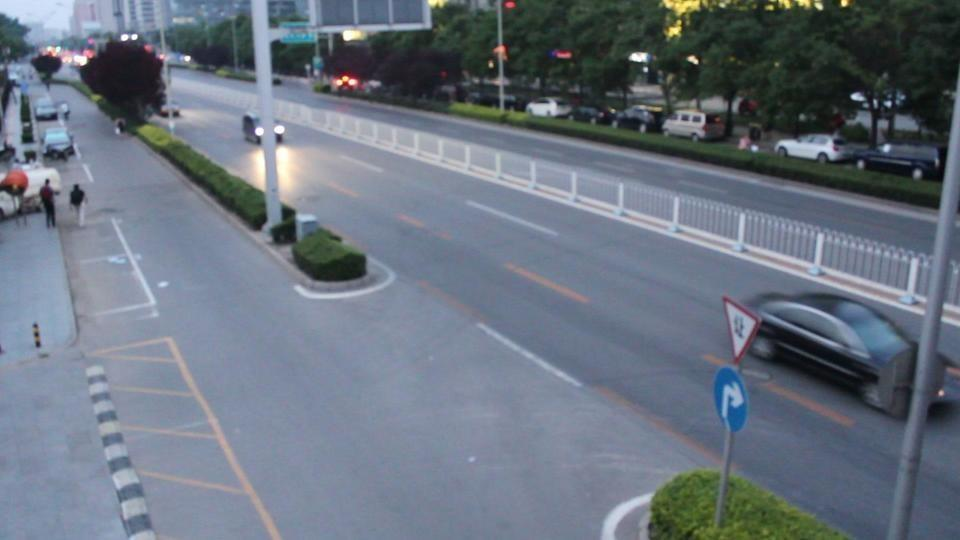car: (751, 290, 959, 420), (854, 142, 942, 180), (0, 160, 59, 216), (775, 134, 860, 165), (0, 165, 30, 220), (242, 113, 288, 146), (662, 111, 712, 141), (613, 106, 662, 133), (41, 127, 74, 161), (527, 99, 572, 119), (330, 73, 366, 97), (567, 106, 602, 125), (33, 98, 59, 121)
